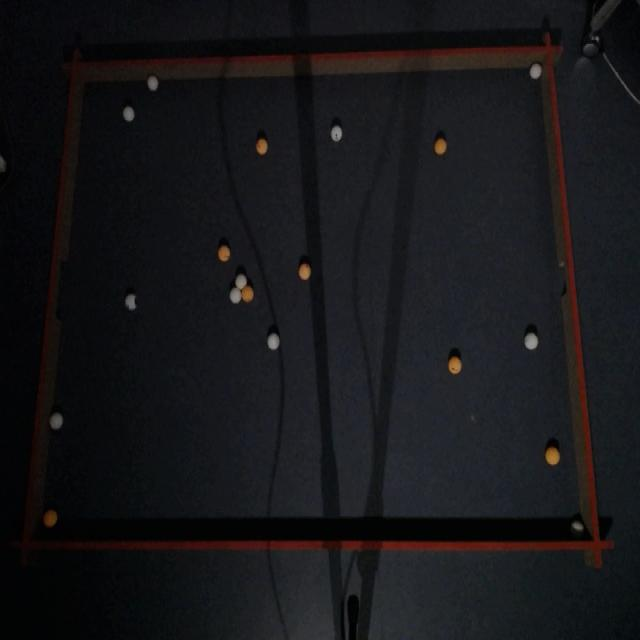orange_ball: (42, 509, 58, 528), (545, 446, 560, 466), (241, 284, 254, 303), (218, 245, 230, 262), (299, 264, 311, 280), (435, 140, 446, 154), (256, 139, 266, 154), (449, 361, 458, 373)
white_ball: (50, 412, 63, 431), (524, 333, 538, 350), (529, 62, 542, 79), (268, 333, 280, 351), (123, 106, 135, 122), (235, 273, 247, 289), (147, 75, 158, 91), (230, 286, 240, 303), (331, 126, 342, 141), (126, 295, 136, 309), (572, 520, 583, 532)
